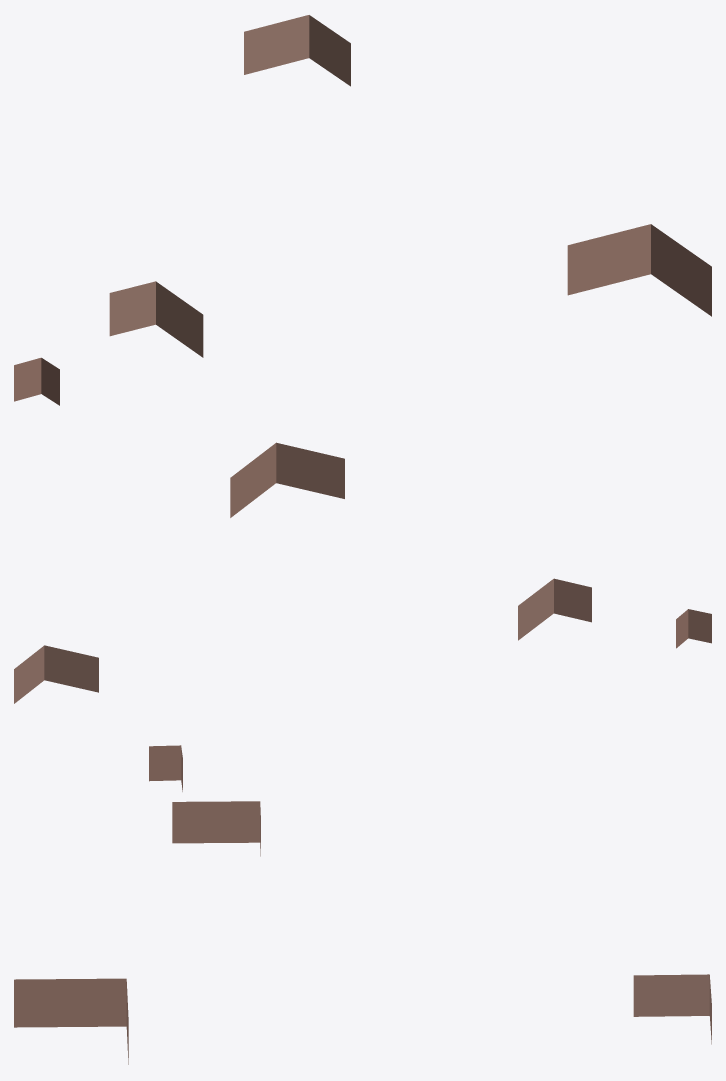
The model's file is c_1632_17820_buildings_residential.glb.
3 renders of one model, top to bottom at view 1: azimuth 30°, elevation 25°; view 2: azimuth 150°, elevation 25°; view 3: azimuth 270°, elevation 25°, orthographic. The views are drawn at different scales.
Parts seen in each view (by area): view 1: geometry_0; view 2: geometry_0; view 3: geometry_0.
Part boxes in pixels (x1=…): geometry_0: x1=14, y1=15, x2=711, y2=405; geometry_0: x1=14, y1=442, x2=711, y2=703; geometry_0: x1=14, y1=745, x2=711, y2=1064.
Bounding box in the file's own units: 140 × 11.08 × 145.
